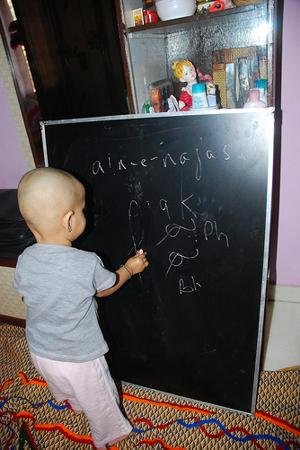person: (13, 168, 148, 449)
